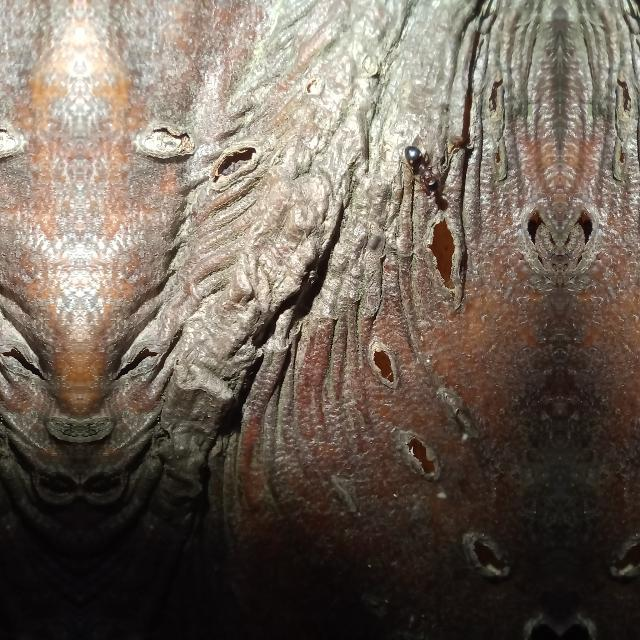Dolichoderus: (400, 138, 454, 218)
